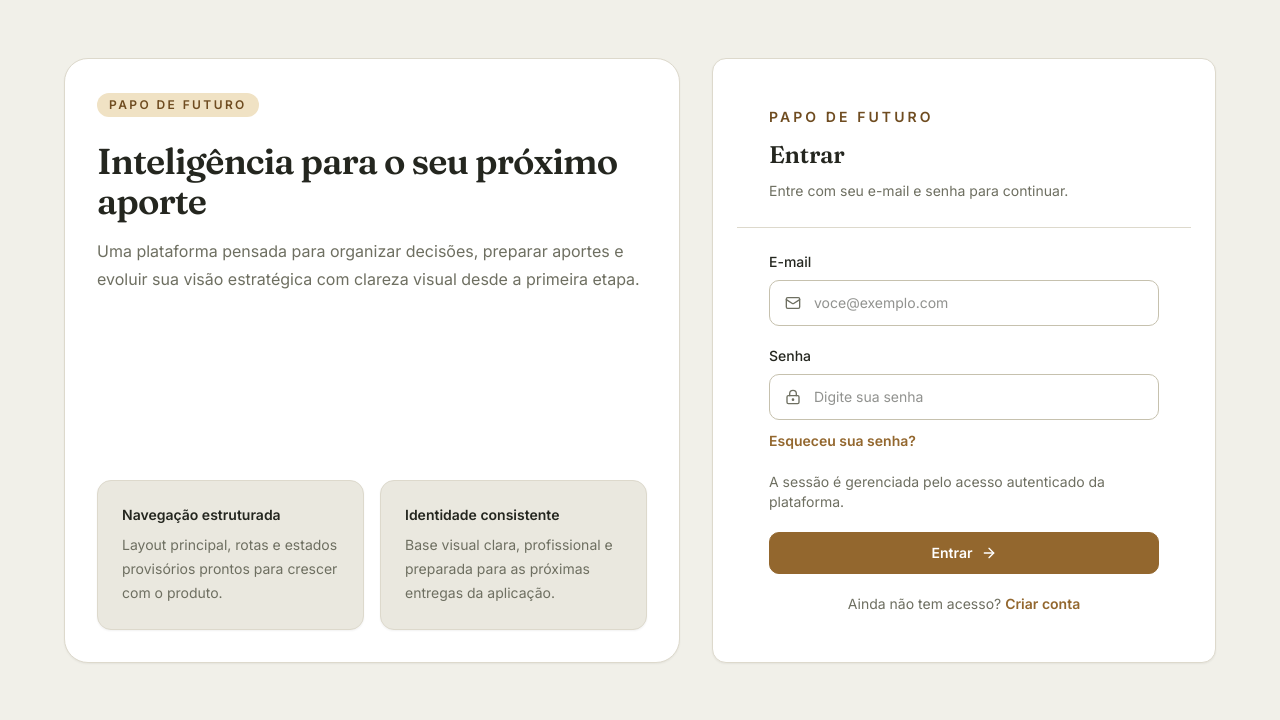
LoginPage › shows the forgot-password link only in sign-in mode, outside demo
Expected: the link "Esqueceu sua senha?" is shown, 769,430 -> 916,450
Click the button "Criar conta" at x=1043, y=604, box 1005,594 -> 1080,614
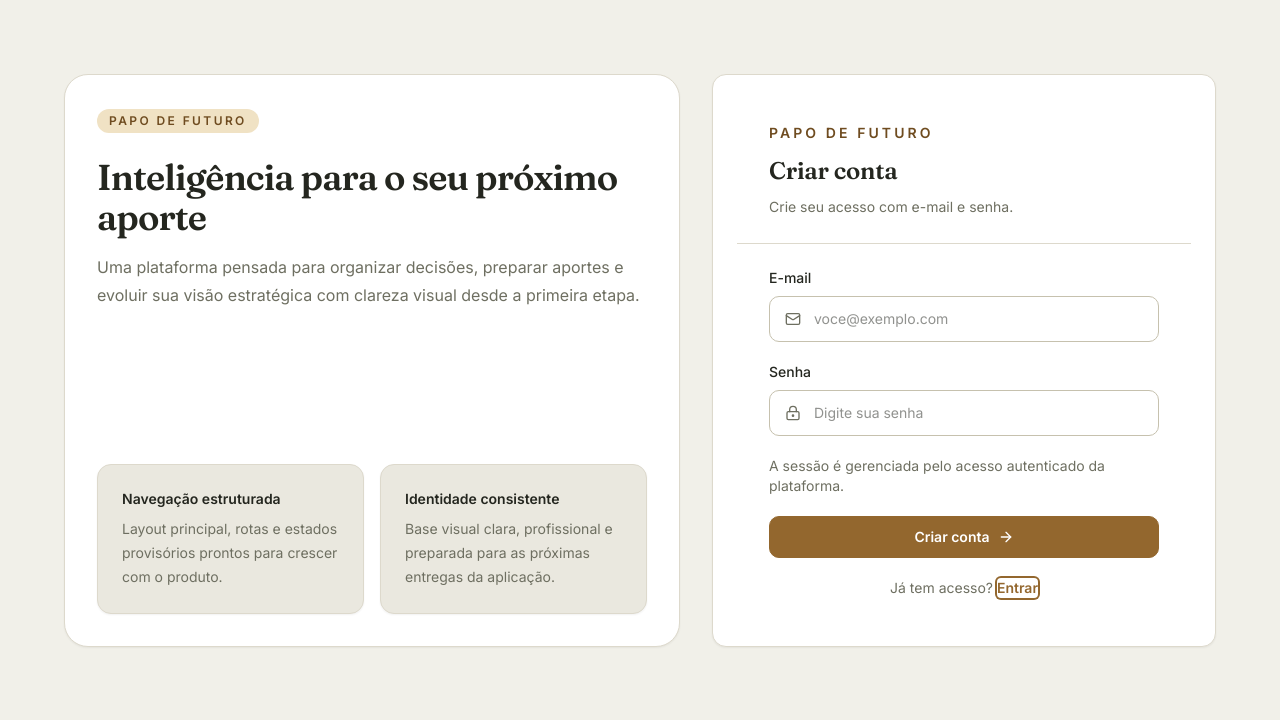
Expected: the link "Esqueceu sua senha?" is gone
